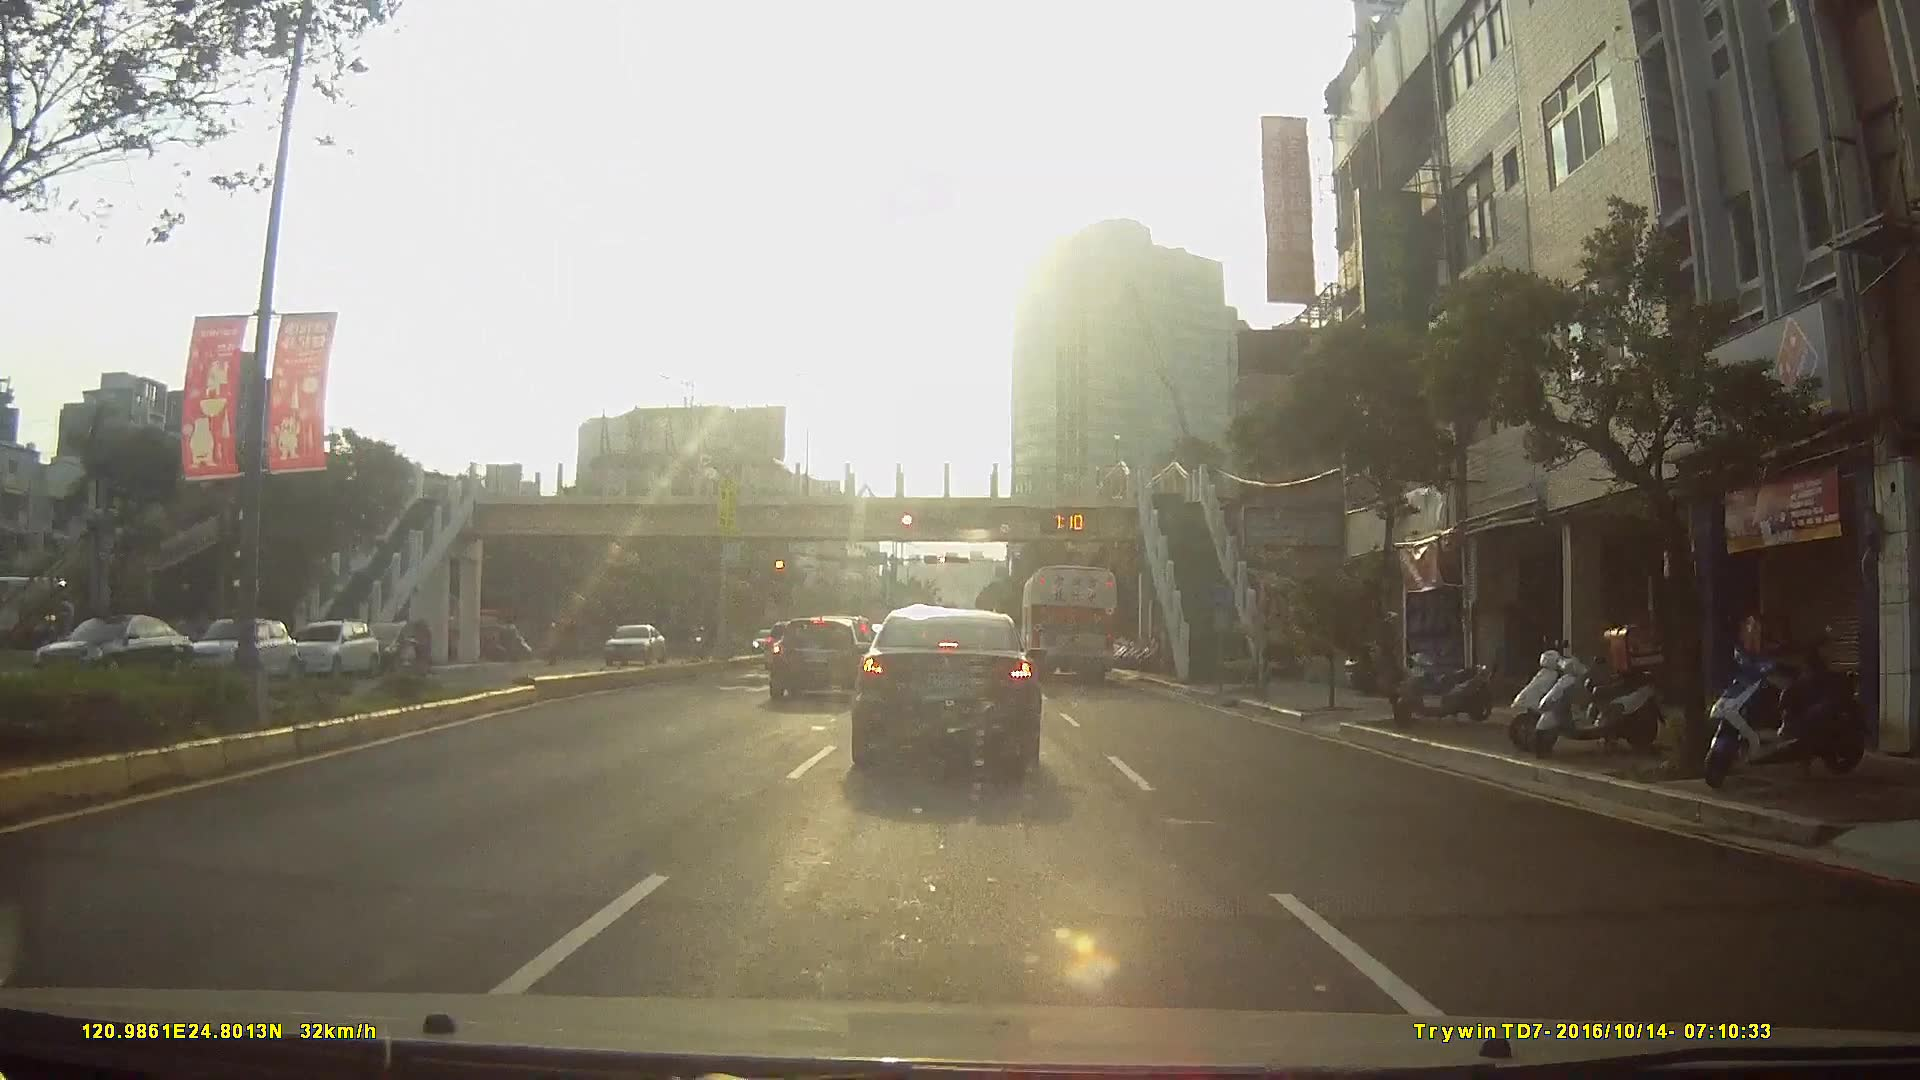rider: (393, 617, 439, 689)
vehicle: (847, 602, 1045, 769), (1019, 562, 1120, 683), (28, 612, 189, 686), (763, 613, 871, 702), (177, 616, 294, 683), (280, 618, 378, 676), (356, 618, 433, 674), (597, 620, 662, 666)
